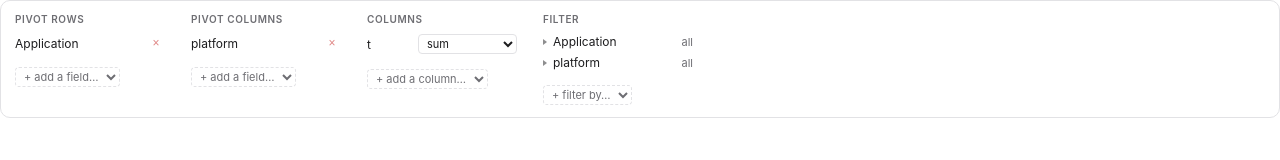
<ViewEditor> filters › filters on a field on neither axis, from the add menu
Select "region" in the dropdown titled "Add a filter": [588, 95] box [543,85,632,105]
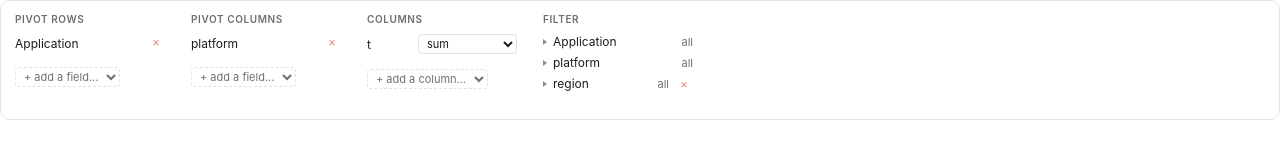
expect the element showing "Filter Application all platform all region all ×" is shown: met, box [543,13,693,107]
